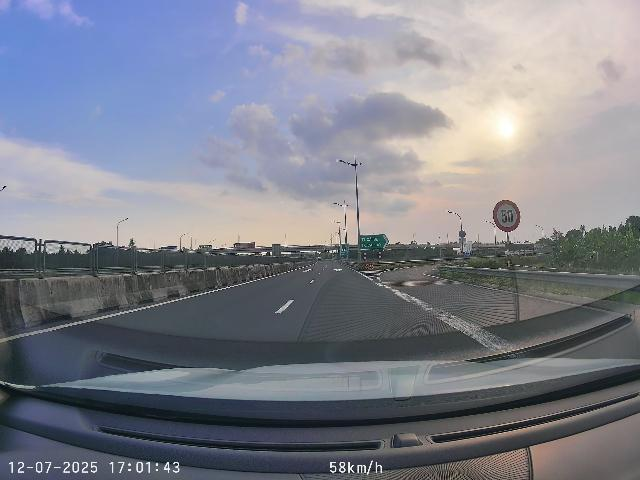127-toc-do-toi-da-50: (493, 199, 521, 232)
